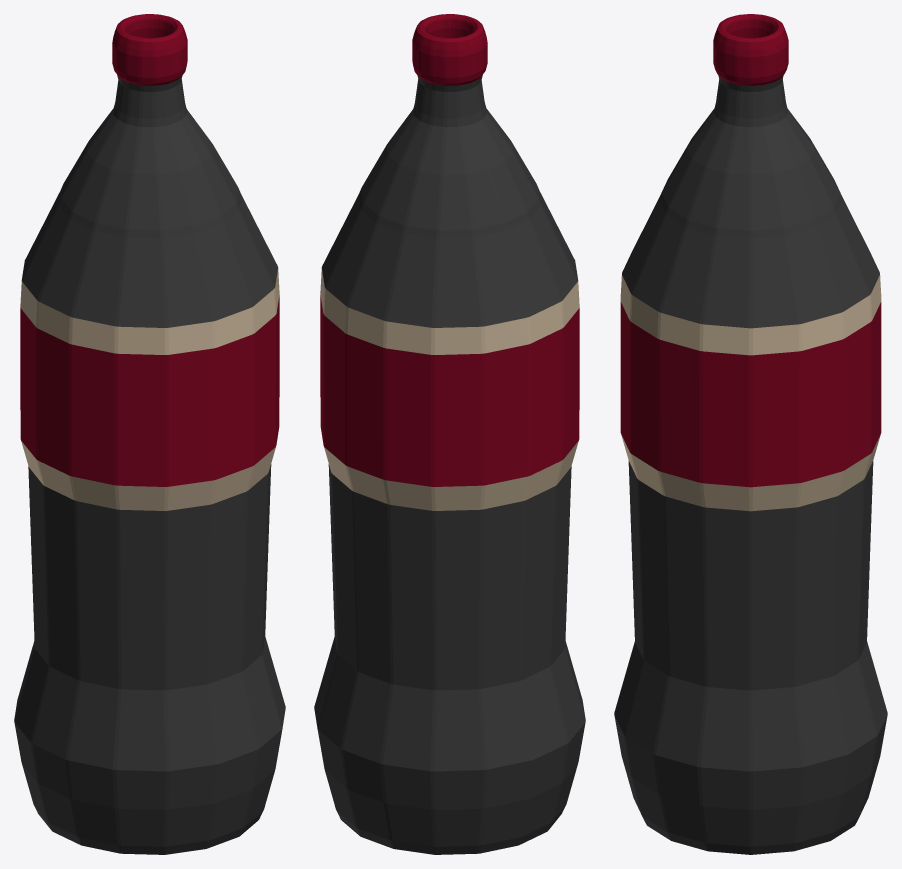
File: coke_bottle_3_Partyassets.fbx
3 views of the same model, side by side, from view 1: azimuth 30°, elevation 25°; view 2: azimuth 150°, elevation 25°; view 3: azimuth 270°, elevation 25° (orthographic).
Visible parts, largest first — view 1: coke_bottle_3_Partyassets; view 2: coke_bottle_3_Partyassets; view 3: coke_bottle_3_Partyassets.
Part boxes in pixels (x1,y1,x2,y2): coke_bottle_3_Partyassets: (14, 14, 285, 854); coke_bottle_3_Partyassets: (314, 14, 585, 854); coke_bottle_3_Partyassets: (614, 14, 887, 854).
Size of the model in its own units: 12.38 by 39.02 by 12.38.
